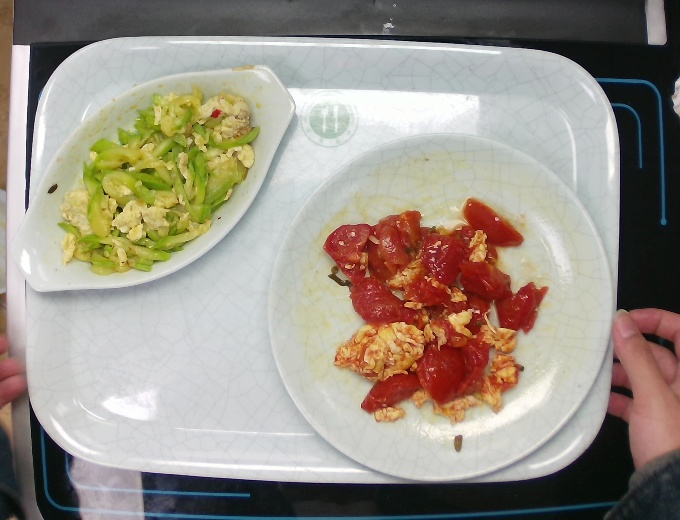JYsf-Da_Yuan_Pan: (258, 125, 626, 487)
JYsf-Yu_Pan: (10, 62, 301, 300)
